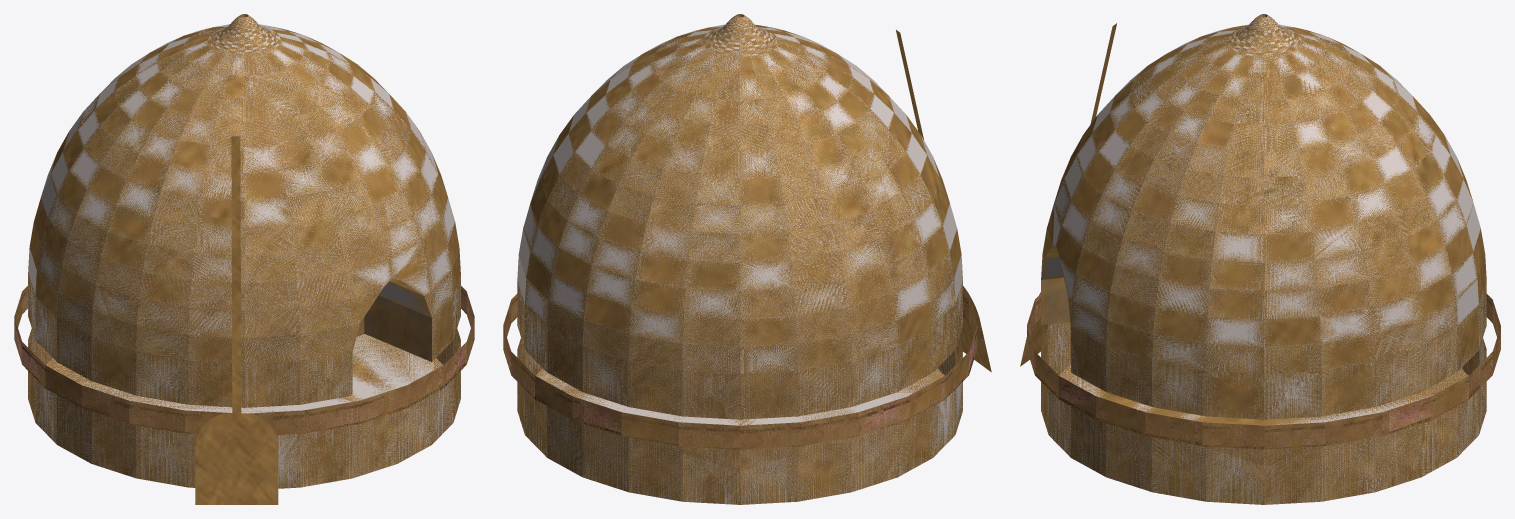
Rendered from Furnace.dae.
3 renders of one model, left to right at view 1: azimuth 30°, elevation 25°; view 2: azimuth 150°, elevation 25°; view 3: azimuth 270°, elevation 25°, orthographic. The views are drawn at different scales.
Visible parts, largest first — view 1: Stove_Oven (×4), group_0; view 2: Stove_Oven (×3), group_0; view 3: Stove_Oven (×4), group_0.
Boxes of the visible parts, <box> form: Stove_Oven (×4): <box>14,14,474,488</box>; group_0: <box>195,136,278,504</box>; Stove_Oven (×3): <box>503,14,977,504</box>; group_0: <box>896,30,991,372</box>; Stove_Oven (×4): <box>1027,14,1500,504</box>; group_0: <box>1020,23,1116,366</box>.
Bounding box in the file's own units: 92.22 × 93.53 × 84.82.
Materials: 5 (2 with a texture image).
